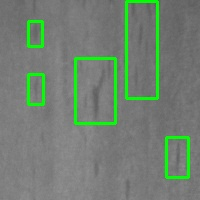inclusion: (126, 1, 157, 98), (75, 58, 115, 123), (166, 137, 188, 177), (28, 74, 43, 104), (28, 21, 42, 46)
